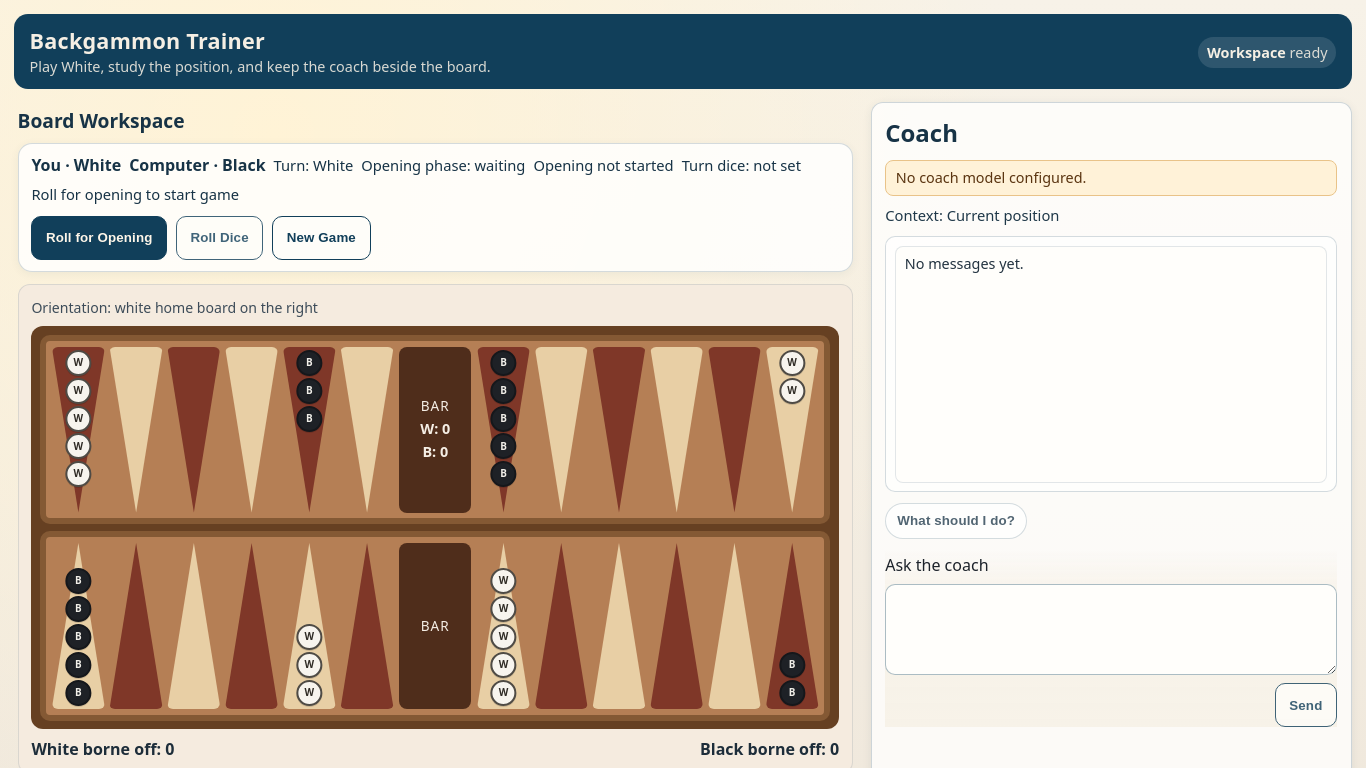
it: App opening roll lifecycle › starts black when black opening die is higher and preserves white-black dice order
The width and height of the screenshot is (1366, 768).
Click the button "Roll for Opening": (99, 238) [31, 216, 167, 260]
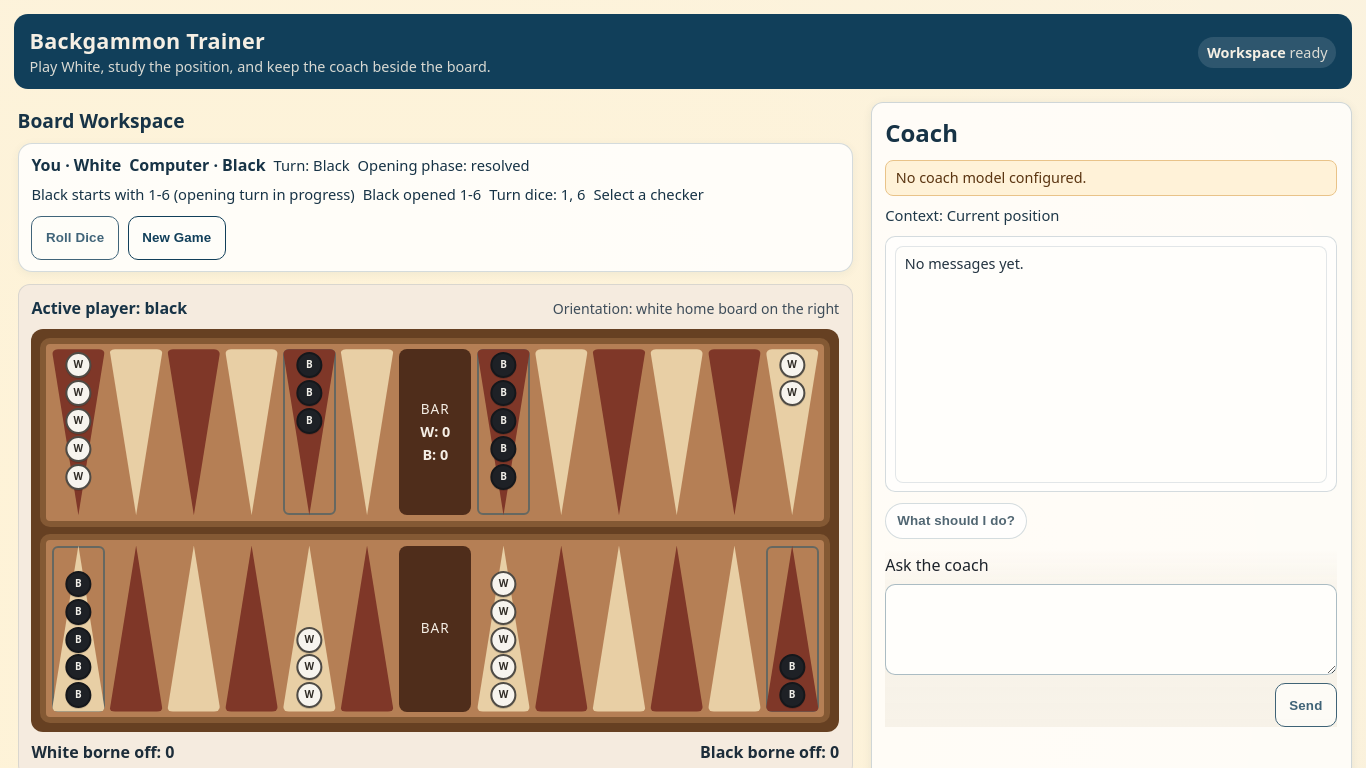
Result: the text with test id "opening-resolution" shows "Black starts with 1-6" at [31, 185, 355, 204]
Result: the text with test id "turn-dice-value" reads "Turn dice: 1, 6" at [489, 184, 586, 204]
